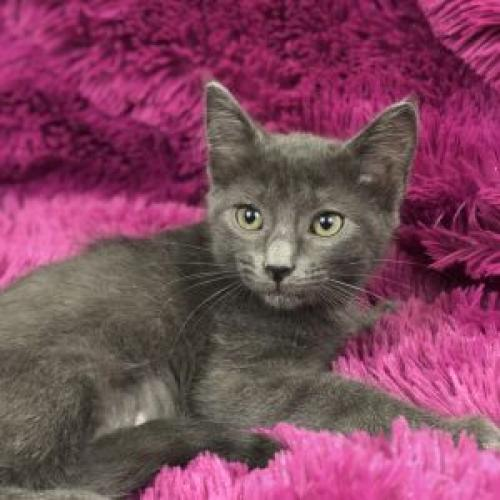rblue: (199, 70, 419, 320)
